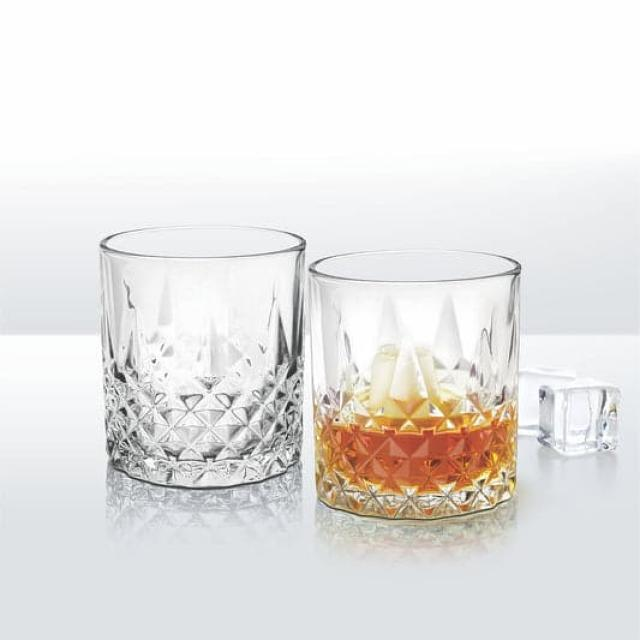glass: (52, 165, 521, 539), (313, 209, 528, 521), (94, 198, 308, 494)
